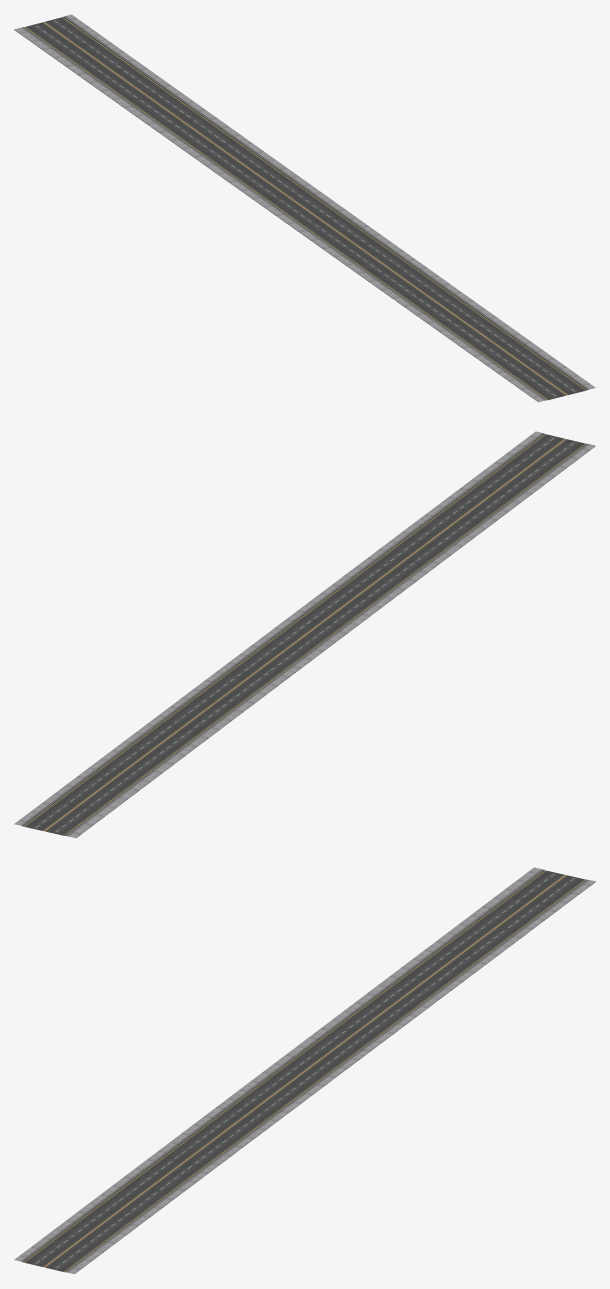
The model's file is road20.glb.
3 views of the same model, one above another, from view 1: azimuth 30°, elevation 25°; view 2: azimuth 150°, elevation 25°; view 3: azimuth 330°, elevation 25° (orthographic). The views are drawn at different scales.
Visible parts, largest first — view 1: Road_4X_Straight_City_Road_mat_0.009; view 2: Road_4X_Straight_City_Road_mat_0.009; view 3: Road_4X_Straight_City_Road_mat_0.009.
Part boxes in pixels (<box>): Road_4X_Straight_City_Road_mat_0.009: <box>14,14,595,402</box>; Road_4X_Straight_City_Road_mat_0.009: <box>14,431,595,837</box>; Road_4X_Straight_City_Road_mat_0.009: <box>14,867,595,1274</box>.
Bounding box in the file's own units: 36.48 × 0.1636 × 469.
Materials: 1 (1 with a texture image).
